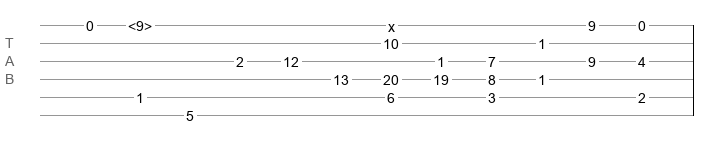0: (86, 18, 94, 28), (638, 18, 646, 28)
1: (136, 90, 144, 100), (437, 54, 445, 64), (538, 72, 546, 82), (538, 36, 546, 46)
10: (383, 36, 399, 46)
12: (283, 54, 299, 64)
13: (333, 72, 349, 82)
19: (433, 72, 449, 82)
2: (236, 54, 244, 64), (638, 90, 646, 100)
20: (383, 72, 399, 82)
3: (488, 90, 496, 100)
4: (638, 54, 646, 64)
5: (186, 108, 194, 118)
6: (387, 90, 395, 100)
7: (488, 54, 496, 64)
8: (488, 72, 496, 82)
9: (588, 18, 596, 28), (588, 54, 596, 64)
harmonic: (128, 18, 152, 28)
x: (388, 19, 395, 27)
